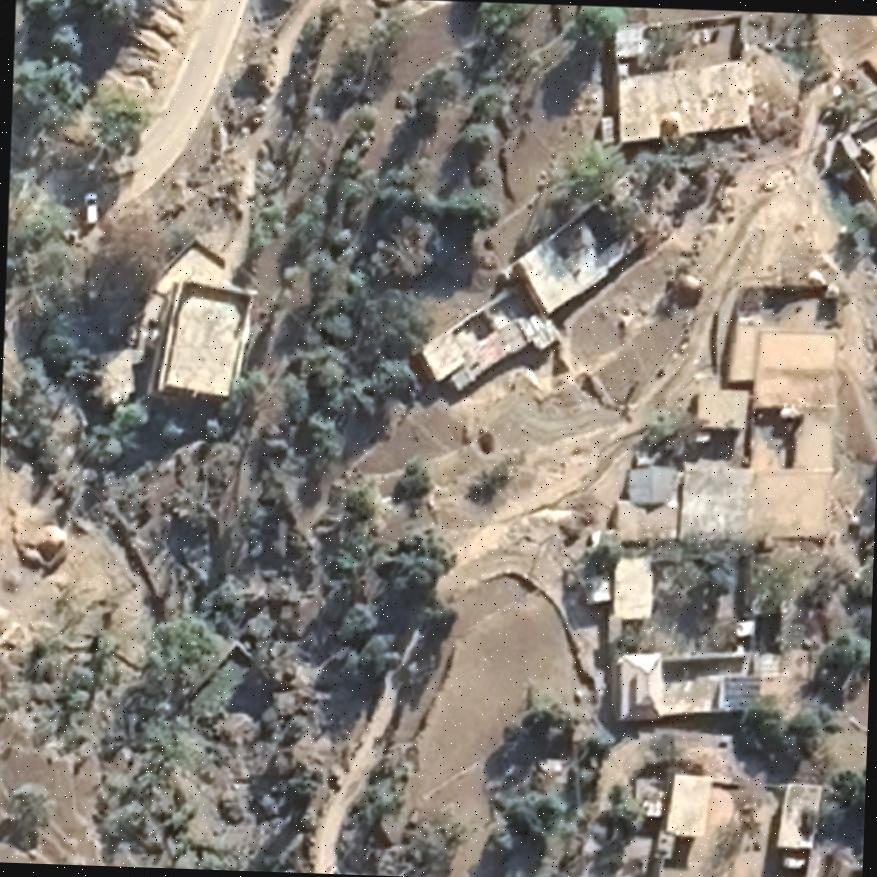Solarpanel: (720, 674, 762, 708)
